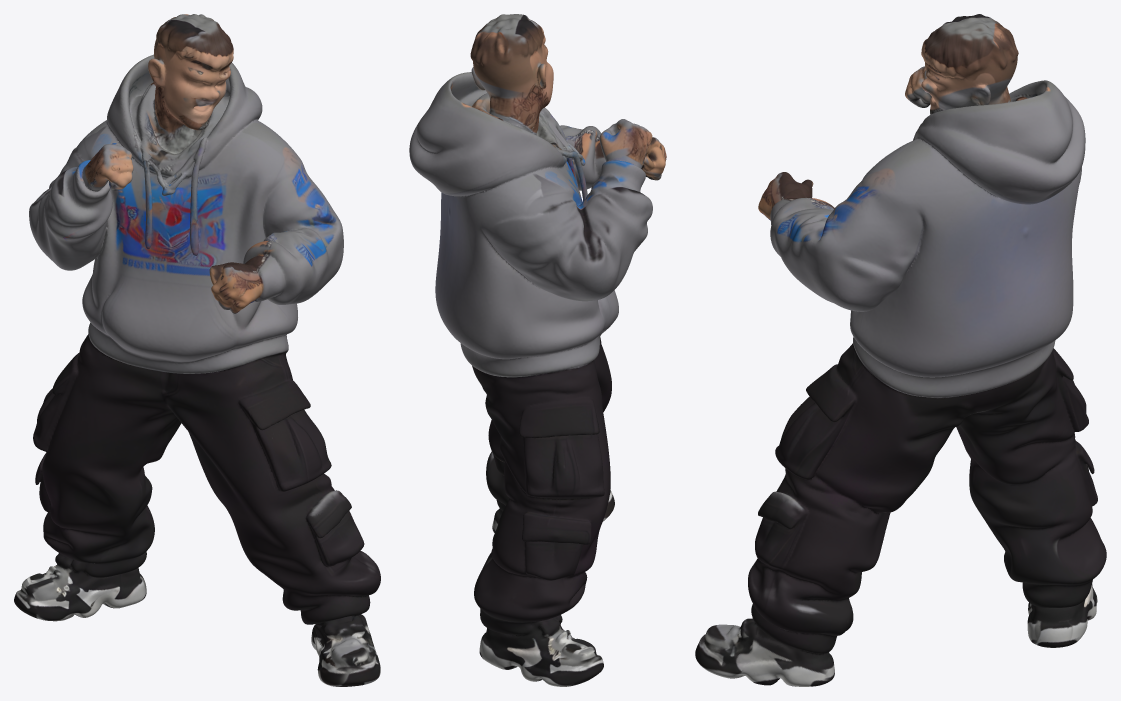
File: Kenai.glb
The picture shows the model from 3 angles, left to right: view 1: azimuth 30°, elevation 25°; view 2: azimuth 150°, elevation 25°; view 3: azimuth 270°, elevation 25°; orthographic projection. The views are drawn at different scales.
Parts seen in each view (by area): view 1: tripo_node_f51a7328-be2e-4fc4-a199-a4f4e85f4baf; view 2: tripo_node_f51a7328-be2e-4fc4-a199-a4f4e85f4baf; view 3: tripo_node_f51a7328-be2e-4fc4-a199-a4f4e85f4baf.
Boxes of the visible parts, left/top/right/bottom form: tripo_node_f51a7328-be2e-4fc4-a199-a4f4e85f4baf: left=14, top=14, right=380, bottom=686; tripo_node_f51a7328-be2e-4fc4-a199-a4f4e85f4baf: left=409, top=14, right=666, bottom=686; tripo_node_f51a7328-be2e-4fc4-a199-a4f4e85f4baf: left=695, top=14, right=1106, bottom=686.
Size of the model in its own units: 0.4128 by 1 by 0.5831.
1 material, 1 textured.
